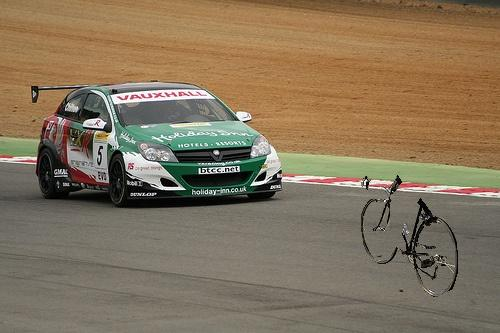tampered: (362, 176, 458, 297)
